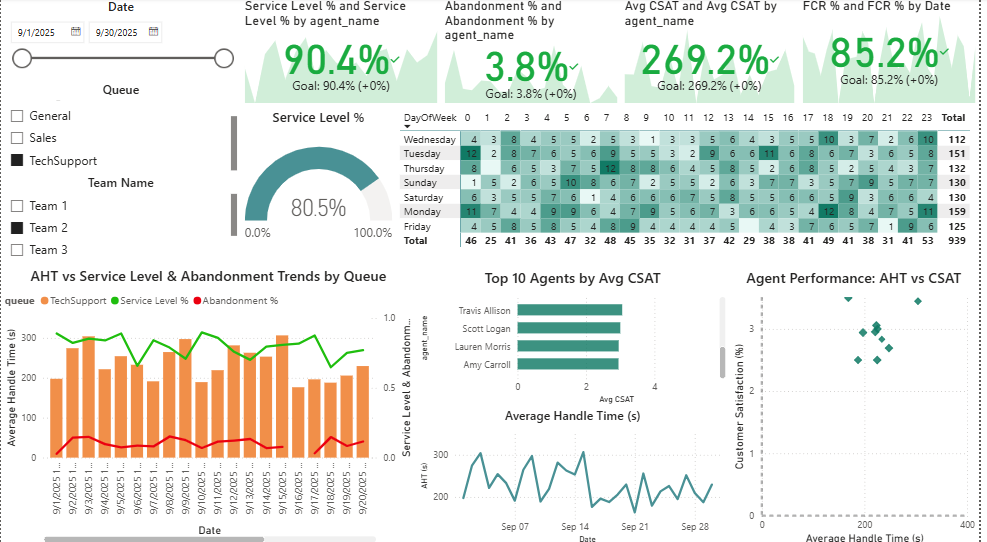

Layout of this report page (visuals, bound fields, positions):
{"tool":"powerbi","page":{"name":"Overview","canvas":[1280,720],"ordinal":0},"visuals":[{"type":"card","fields":{"Values":["calls_clean.Service Level %"]},"box":[10.1,0,257.8,142.6],"z":0},{"type":"card","fields":{"Values":["calls_clean.AHT (s)"]},"box":[234.7,0,257.8,142.6],"z":1000},{"type":"card","fields":{"Values":["calls_clean.Abandonment %"]},"box":[492.5,0,257.8,142.6],"z":2000},{"type":"card","fields":{"Values":["calls_clean.Avg CSAT"]},"box":[750.2,0,272.2,142.6],"z":3000},{"type":"card","fields":{"Values":["calls_clean.FCR %"]},"box":[1022.4,0,257.8,142.6],"z":4000},{"type":"lineClusteredColumnComboChart","title":"AHT vs Service Level & Abandonment Trends by Queue","fields":{"Y":["calls_clean.AHT (s)"],"Y2":["calls_clean.Service Level %","calls_clean.Abandonment %"],"Category":["Date.Date"],"Series":["calls_clean.queue"]},"box":[0,142.6,479.5,305.3],"z":5000},{"type":"pivotTable","fields":{"Rows":["Date.DayOfWeek"],"Columns":["calls_clean.hour_of_day"],"Values":["CountNonNull(calls_clean.call_id)"]},"box":[0,509.8,966.2,210.2],"z":5001},{"type":"clusteredBarChart","title":"Top 10 Agents by Avg CSAT","fields":{"Category":["calls_clean.agent_name"],"Y":["calls_clean.Avg CSAT"]},"box":[492.5,142.6,493.9,347],"z":5002},{"type":"actionButton","box":[0,0,100,40],"z":5003},{"type":"scatterChart","title":"Agent Performance: AHT vs CSAT (Bubble Size = Call Volume)","fields":{"Category":["calls_clean.agent_name"],"X":["calls_clean.AHT (s)"],"Y":["calls_clean.Avg CSAT"],"Size":["CountNonNull(calls_clean.call_id)"]},"box":[941.8,142.6,338.4,306.7],"z":5004}]}

Visuals, with their boxes in screenshot pixels (x1, y1, x2, y2), scaled from the page's 1280x720 canvas onto the 987x542 screenshot:
card - calls_clean.Service Level %: x1=8 y1=0 x2=207 y2=107
card - calls_clean.AHT (s): x1=181 y1=0 x2=380 y2=107
card - calls_clean.Abandonment %: x1=380 y1=0 x2=579 y2=107
card - calls_clean.Avg CSAT: x1=578 y1=0 x2=788 y2=107
card - calls_clean.FCR %: x1=788 y1=0 x2=986 y2=107
"AHT vs Service Level & Abandonment Trends by Queue" lineClusteredColumnComboChart: x1=0 y1=107 x2=370 y2=337
pivotTable - Date.DayOfWeek x calls_clean.hour_of_day: x1=0 y1=384 x2=745 y2=541
"Top 10 Agents by Avg CSAT" clusteredBarChart: x1=380 y1=107 x2=761 y2=369
actionButton: x1=0 y1=0 x2=77 y2=30
"Agent Performance: AHT vs CSAT (Bubble Size = Call Volume)" scatterChart: x1=726 y1=107 x2=986 y2=338
